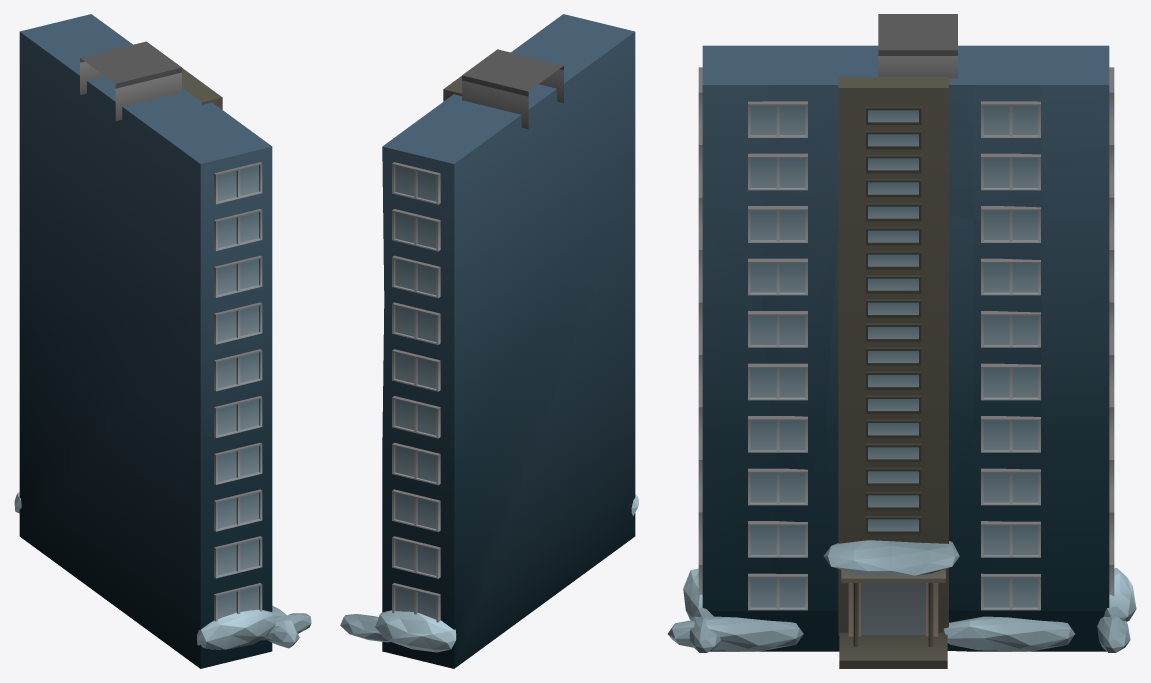
Rendered from SM_Panelki_Blue.fbx.
3 views of the same model, side by side, from view 1: azimuth 30°, elevation 25°; view 2: azimuth 150°, elevation 25°; view 3: azimuth 270°, elevation 25° (orthographic). The views are drawn at different scales.
Parts seen in each view (by area): view 1: SM_Panelki_Blue; view 2: SM_Panelki_Blue; view 3: SM_Panelki_Blue.
Part boxes in pixels (x1,y1,x2,y2): SM_Panelki_Blue: (14, 14, 311, 668); SM_Panelki_Blue: (340, 14, 638, 668); SM_Panelki_Blue: (667, 14, 1136, 668).
Bounding box in the file's own units: 967 × 3557 × 2544.
